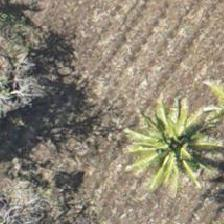coconut_tree: (122, 98, 212, 188)
